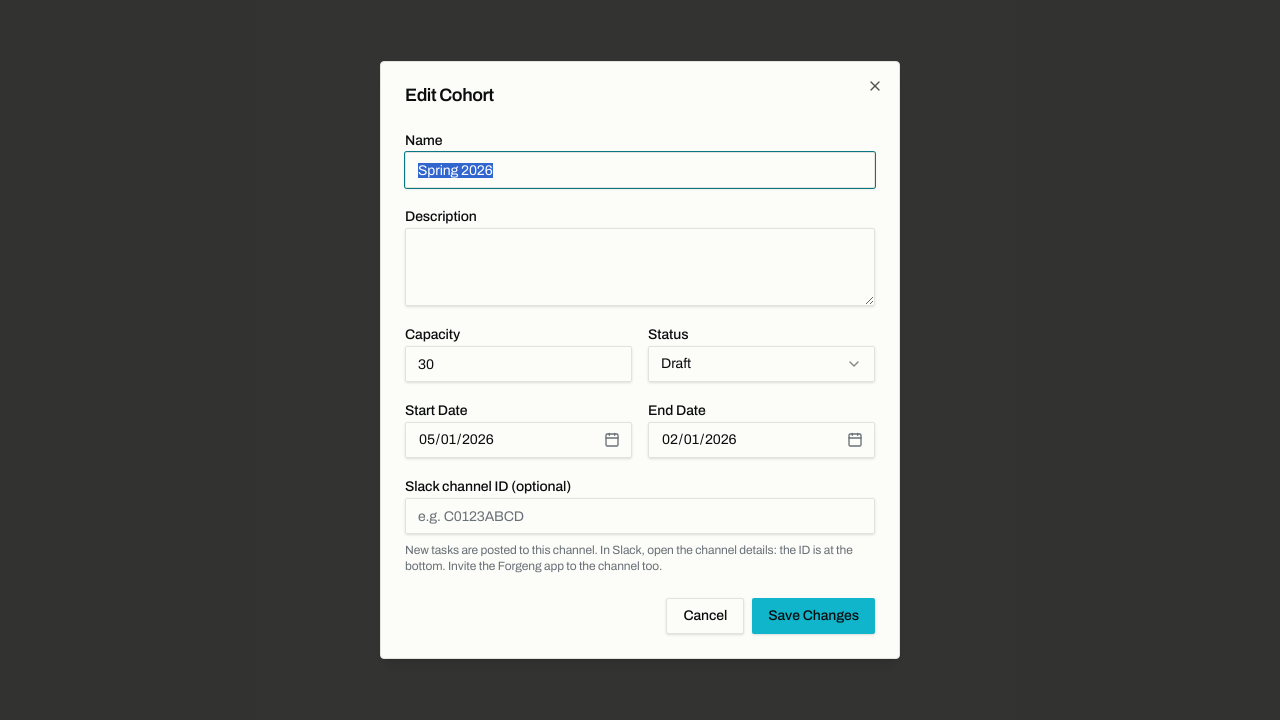
cohort FormDialog › does not save an end date before the start date
Step 1. Click the button "Save Changes" → x=814, y=616, box left=752, top=598, right=875, bottom=634
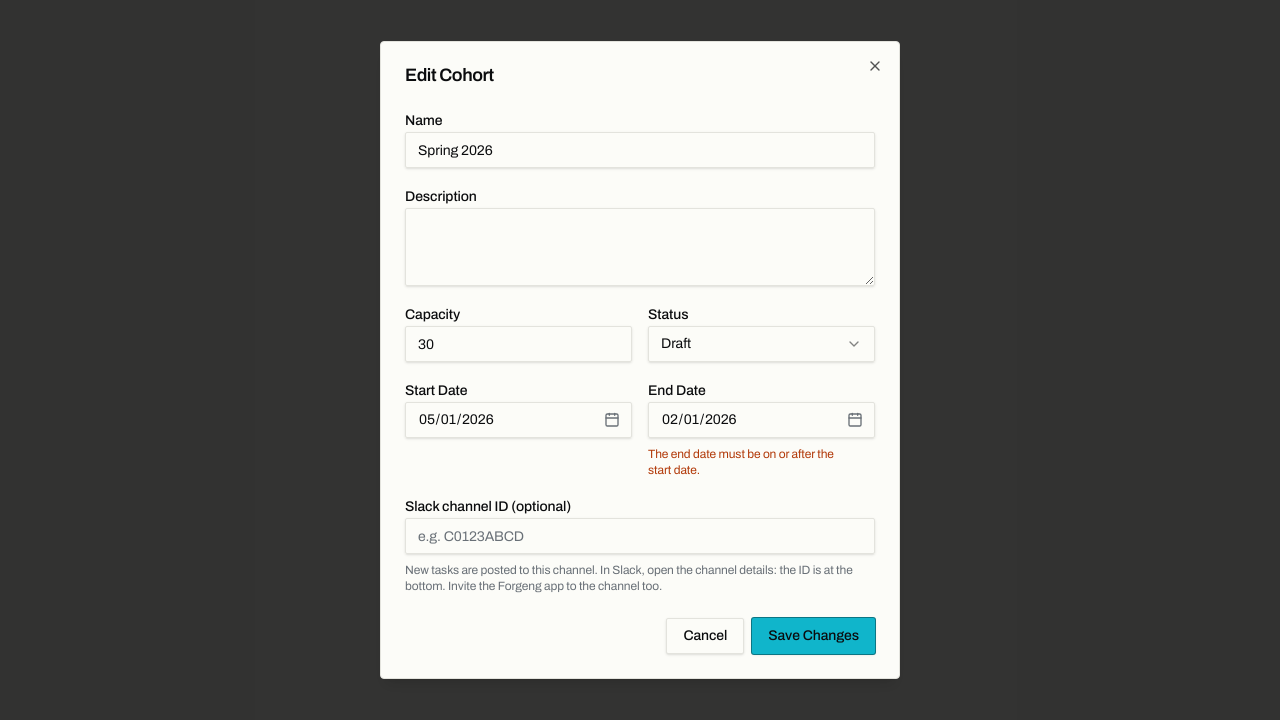
Now the text "The end date must be on or after the start date." is shown, box left=648, top=447, right=834, bottom=477
